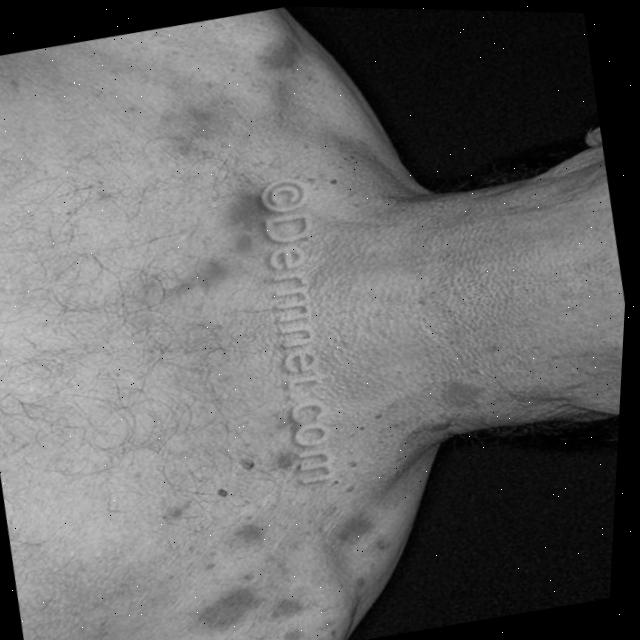Eczema: (49, 35, 419, 640), (432, 374, 488, 419)
